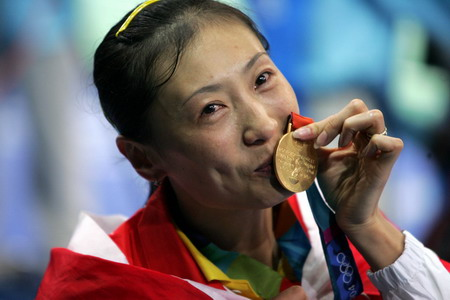face: (176, 23, 308, 209)
